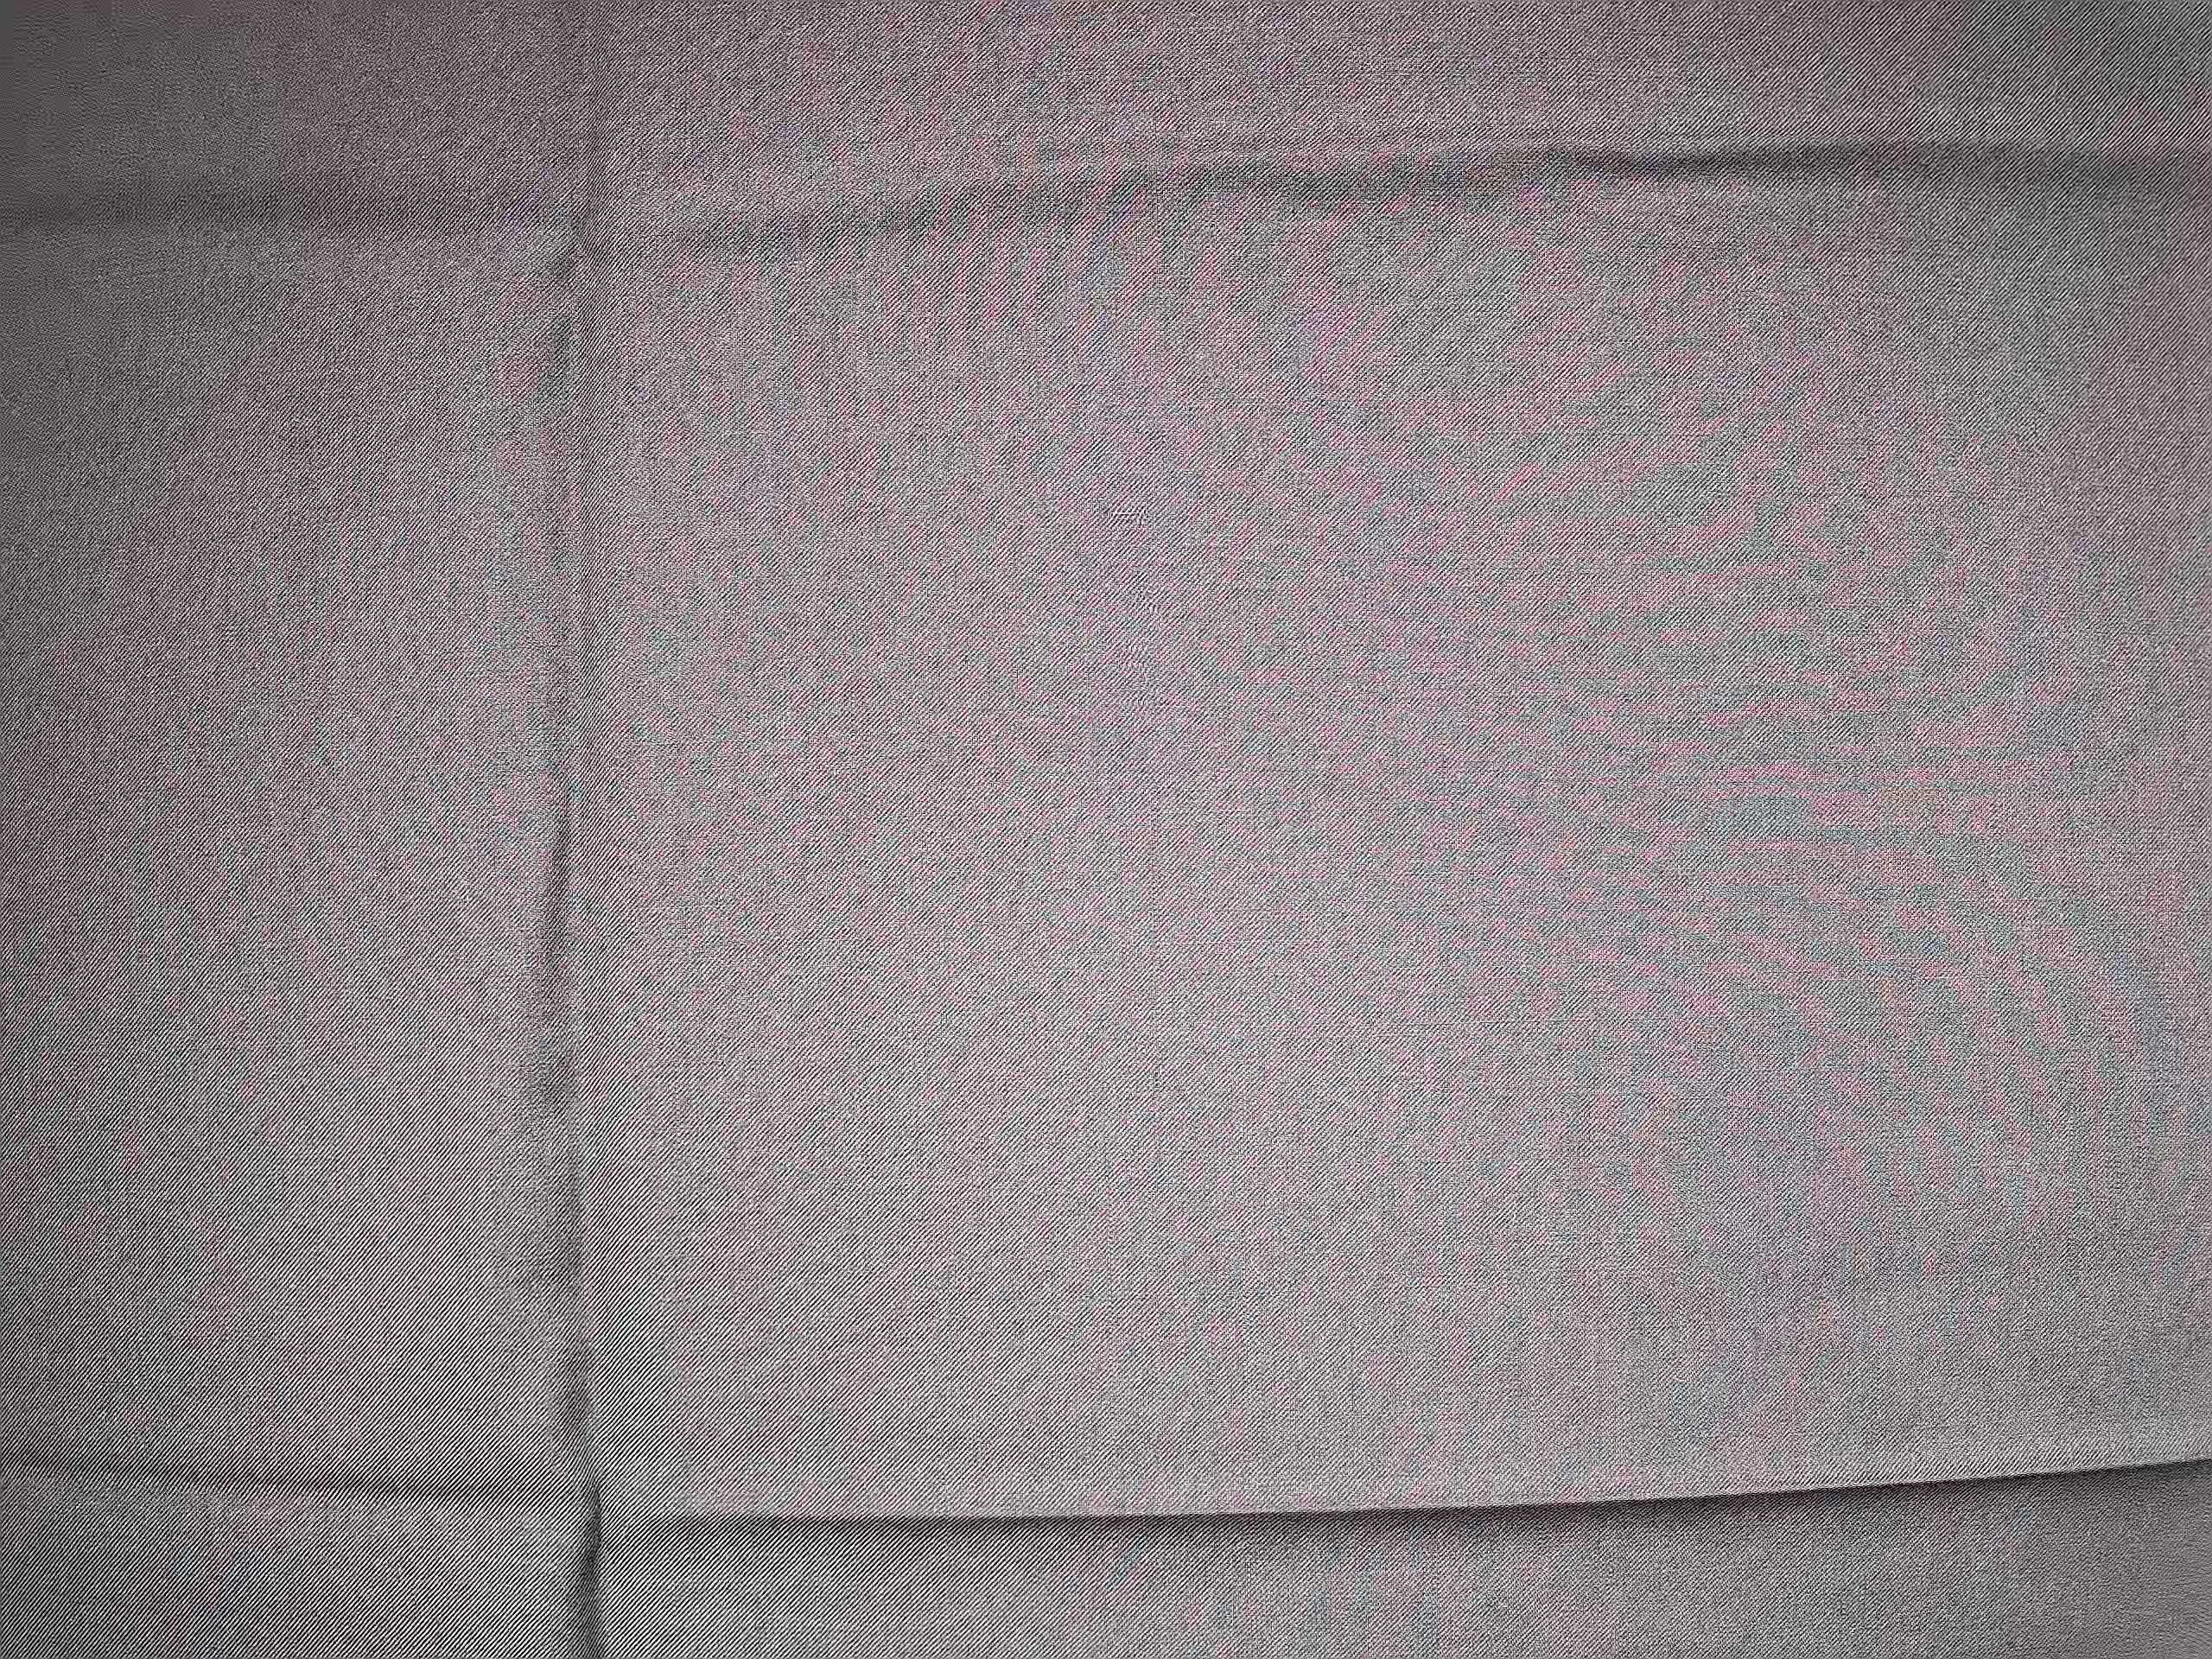jumps: (1103, 476, 1179, 737)
